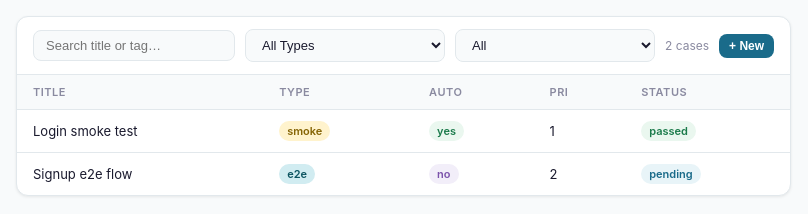
Test case: TestCases — list and filters › filters by search text on title
Expected: the text "Login smoke test" is shown, [17, 110, 263, 152]
In the field named "Search test cases": (134, 46) [33, 30, 235, 61], type "login"
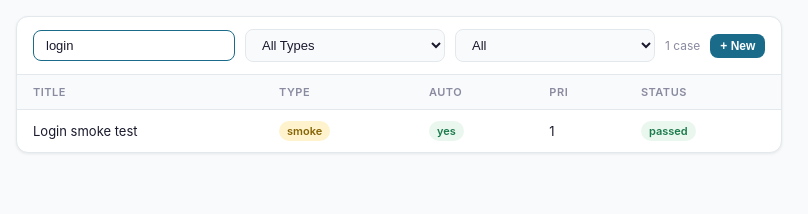
Expected: the text "Login smoke test" is shown, [17, 110, 263, 152]
Now the text "Signup e2e flow" is gone
